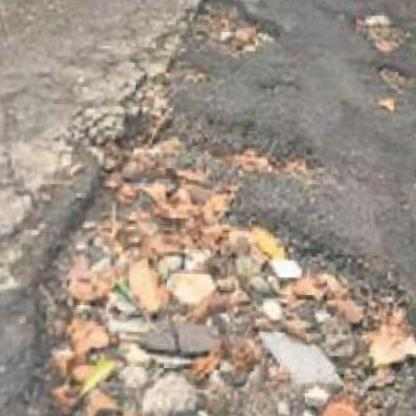pothole: (12, 100, 416, 416), (180, 0, 286, 57), (347, 4, 411, 49), (376, 59, 413, 90)
